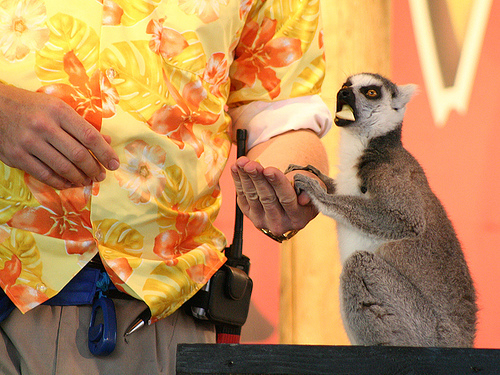cat: (280, 67, 487, 348)
